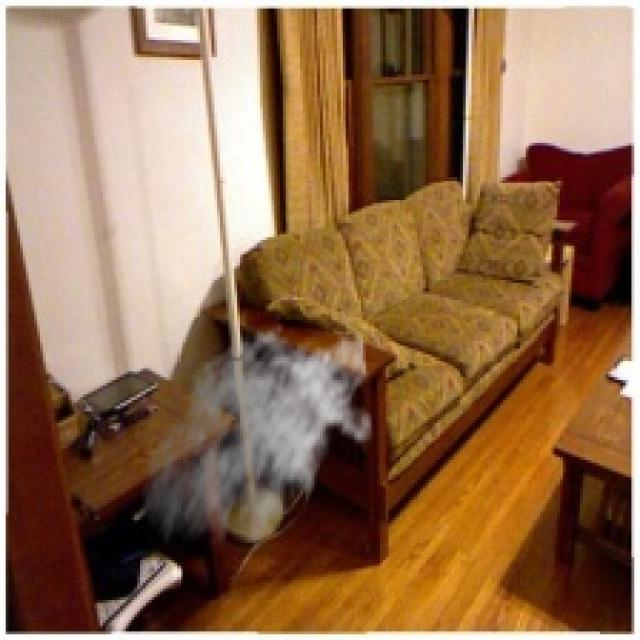smoke: (140, 320, 374, 563)
